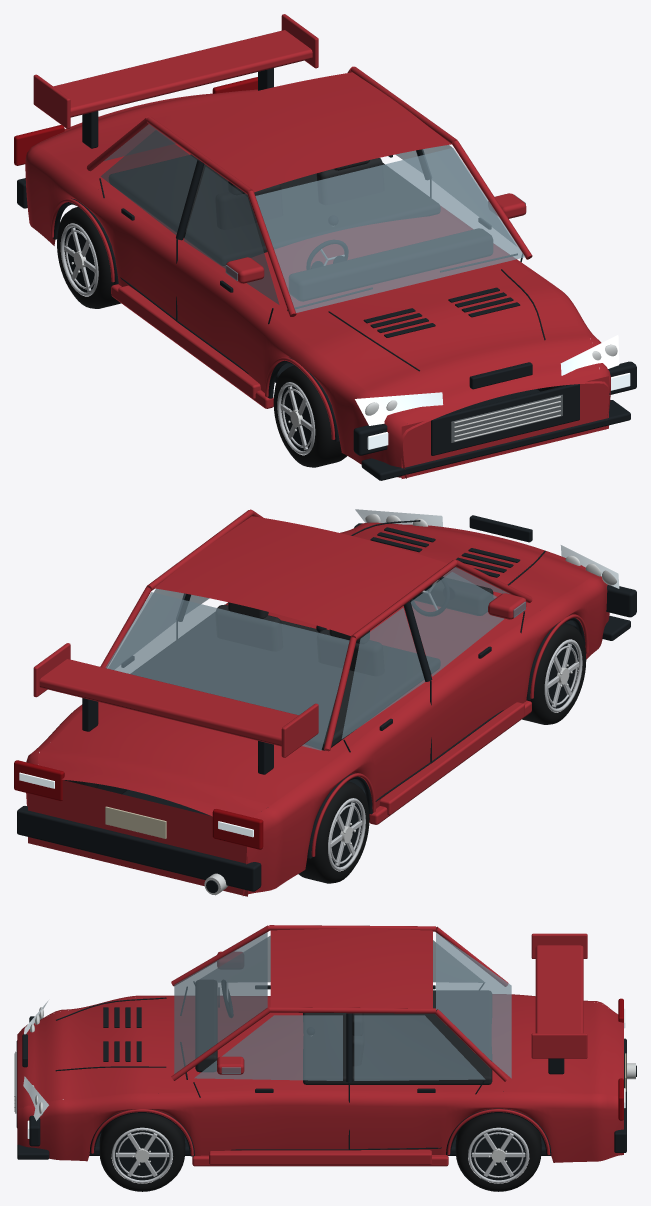
The model's file is apex.glb.
3 views of the same model, one above another, from view 1: azimuth 30°, elevation 25°; view 2: azimuth 150°, elevation 25°; view 3: azimuth 270°, elevation 25° (orthographic). The views are drawn at different scales.
Visible parts, largest first — view 1: exterior-paint, windows, interior, black-trim (×3), rubber (×2), headlights, rims (×2), brake-discs, chrome, taillights; view 2: exterior-paint, windows, interior, black-trim (×3), rubber (×2), rims (×2), taillights, headlights, secondary-paint, chrome; view 3: exterior-paint, windows, interior, black-trim (×3), rubber (×2), rims (×2), headlights, chrome, taillights.
Part boxes in pixels (x1,y1,x2,y2): exterior-paint: (25, 14, 610, 478); windows: (100, 124, 525, 312); interior: (109, 154, 492, 301); black-trim (×3): (17, 68, 636, 480); rubber (×2): (57, 207, 346, 467); headlights: (355, 335, 630, 449); rims (×2): (60, 223, 315, 454); brake-discs: (451, 394, 562, 442); chrome: (365, 344, 617, 441); taillights: (14, 77, 257, 165); exterior-paint: (26, 509, 609, 896); windows: (105, 567, 525, 750); interior: (131, 577, 493, 750); black-trim (×3): (17, 515, 636, 892); rubber (×2): (298, 623, 586, 883); rims (×2): (328, 639, 582, 870); taillights: (14, 760, 263, 849); headlights: (19, 509, 619, 837); secondary-paint: (105, 806, 166, 838); chrome: (204, 514, 616, 895); exterior-paint: (17, 925, 623, 1166); windows: (174, 932, 511, 1080); interior: (195, 980, 492, 1084); black-trim (×3): (16, 980, 636, 1181); rubber (×2): (99, 1113, 541, 1191); rims (×2): (111, 1127, 529, 1183); headlights: (23, 1000, 625, 1138); chrome: (14, 1007, 635, 1115); taillights: (618, 998, 623, 1120).
Bounding box in the file's own units: 1.71 × 1.21 × 3.88.
